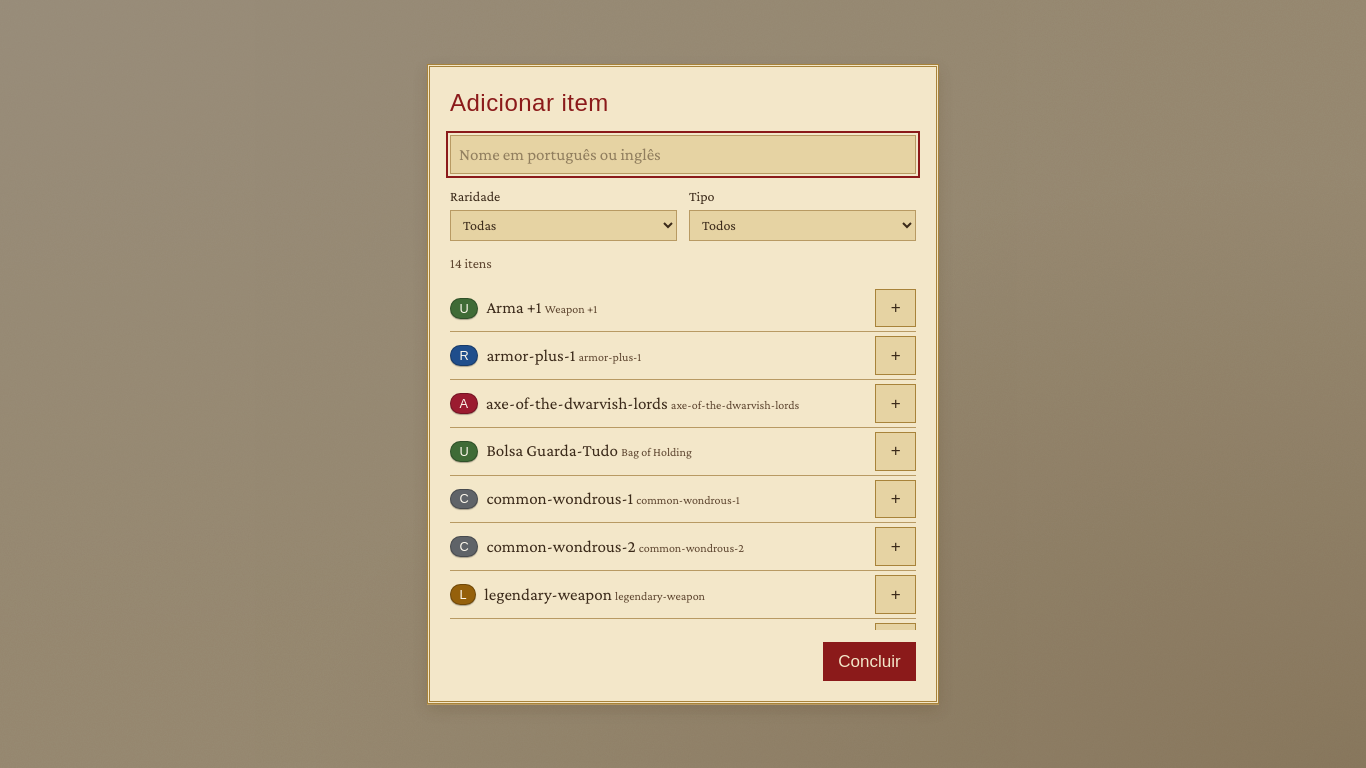
CatalogPicker › busca em português sem acento
Type "bolsa" into the search field named "Buscar no catálogo" at (683, 154), box [450,135,916,174]
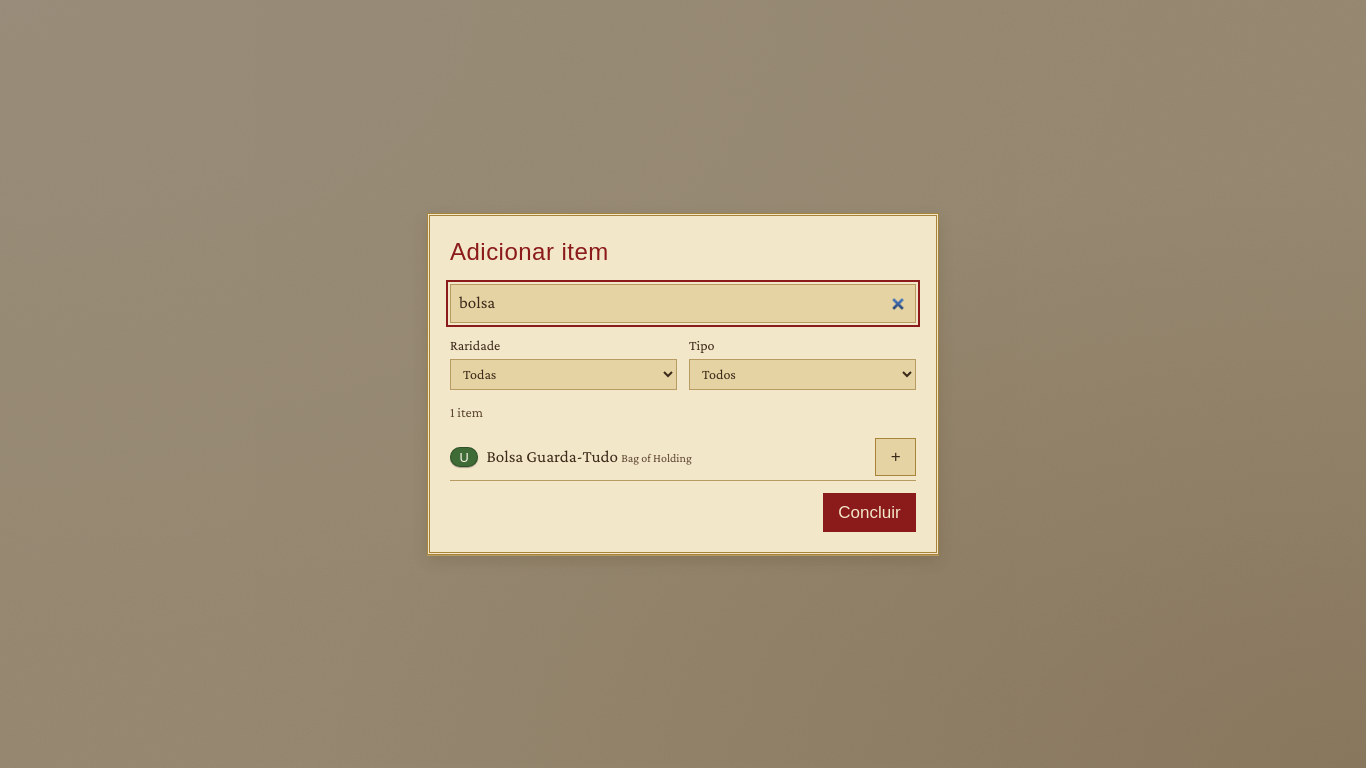
Expected: the button named "Adicionar Bolsa Guarda-Tudo" is shown, [875,438,916,476]
Now the message reads "1 item", box [450,404,483,420]
